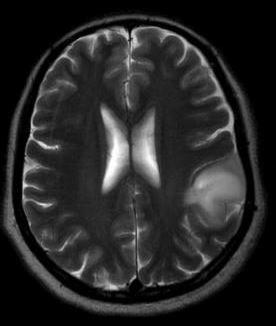Normal_Brain: (2, 2, 276, 326)
